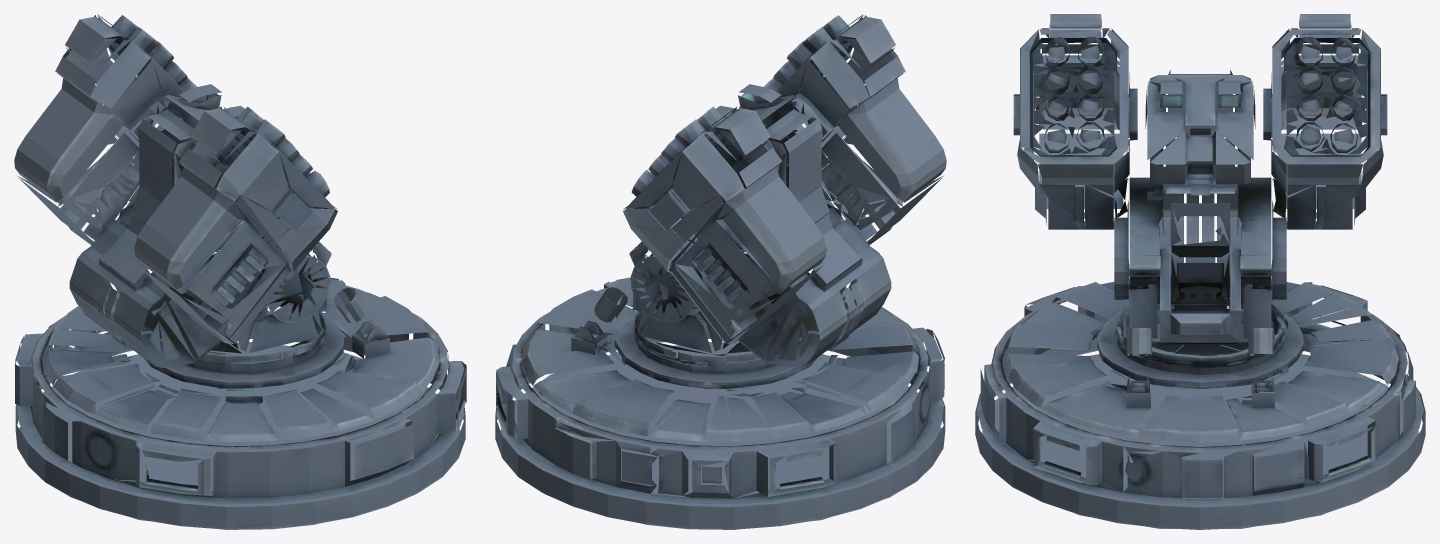
The model's file is defense_turret_LOD2.glb.
3 views of the same model, side by side, from view 1: azimuth 30°, elevation 25°; view 2: azimuth 150°, elevation 25°; view 3: azimuth 270°, elevation 25° (orthographic).
Visible parts, largest first — view 1: defense_turret_LOD2; view 2: defense_turret_LOD2; view 3: defense_turret_LOD2.
Part boxes in pixels (box(x1,y1,x2,y2)): defense_turret_LOD2: box(14, 14, 466, 529); defense_turret_LOD2: box(495, 14, 946, 529); defense_turret_LOD2: box(975, 14, 1425, 529).
Size of the model in its own units: 0.9881 by 0.9216 by 0.9881.
1 material, 1 textured.
